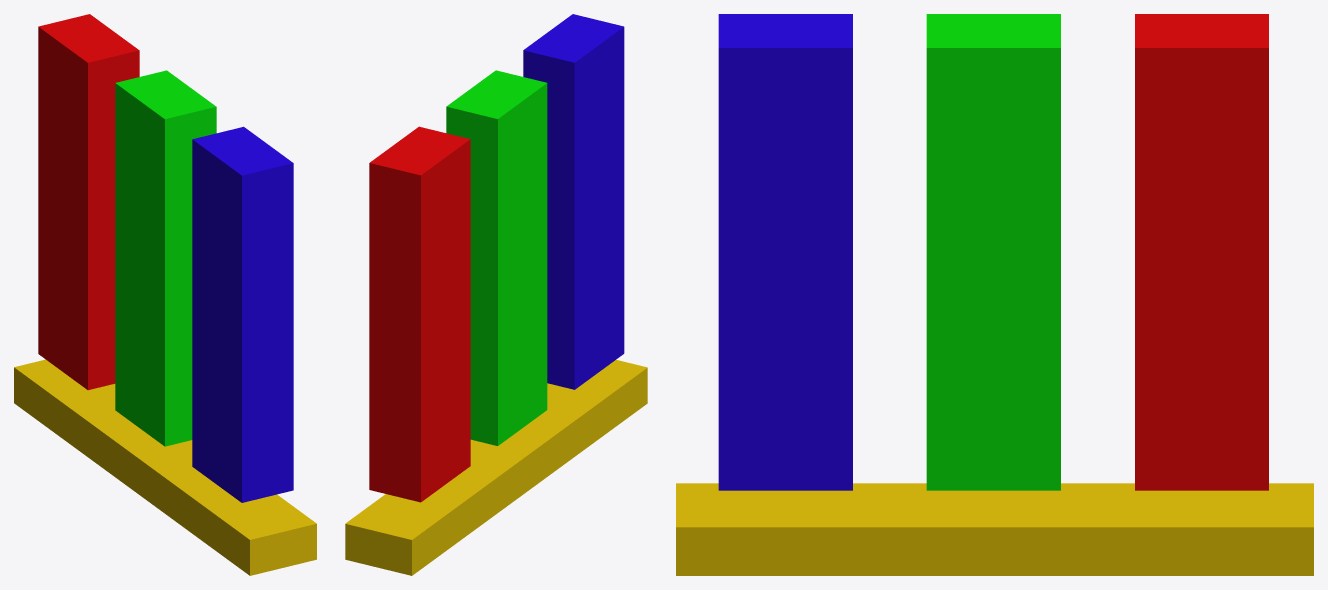
The model's file is chart.glb.
3 views of the same model, side by side, from view 1: azimuth 30°, elevation 25°; view 2: azimuth 150°, elevation 25°; view 3: azimuth 270°, elevation 25° (orthographic). The views are drawn at different scales.
Parts seen in each view (by area): view 1: Cube.001, Cube.003, Cube.002, Cube; view 2: Cube.003, Cube.001, Cube.002, Cube; view 3: Cube.001, Cube.002, Cube.003, Cube.
Boxes of the visible parts, bbox=[...] form: Cube.001: bbox=[192, 126, 293, 502]; Cube.003: bbox=[38, 14, 139, 390]; Cube.002: bbox=[115, 70, 216, 446]; Cube: bbox=[14, 359, 316, 575]; Cube.003: bbox=[369, 126, 470, 502]; Cube.001: bbox=[523, 14, 624, 389]; Cube.002: bbox=[446, 70, 547, 445]; Cube: bbox=[345, 359, 647, 575]; Cube.001: bbox=[718, 14, 852, 490]; Cube.002: bbox=[926, 14, 1060, 490]; Cube.003: bbox=[1135, 14, 1268, 490]; Cube: bbox=[676, 483, 1313, 575].
Bounding box in the file's own units: 0.7785 × 4.3 × 4.75.
